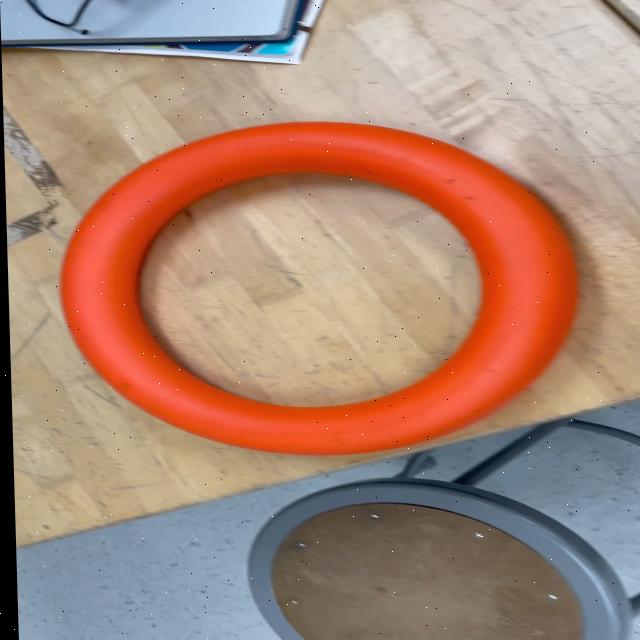note: (48, 120, 585, 454)
